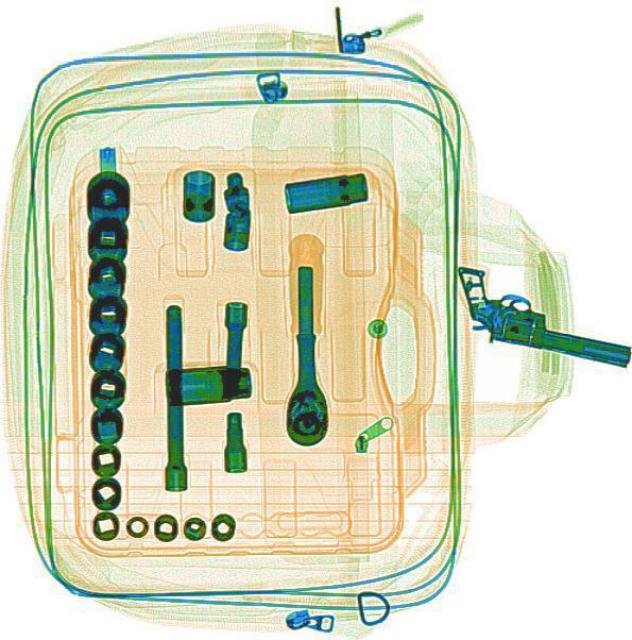Gun: (440, 262, 629, 366)
